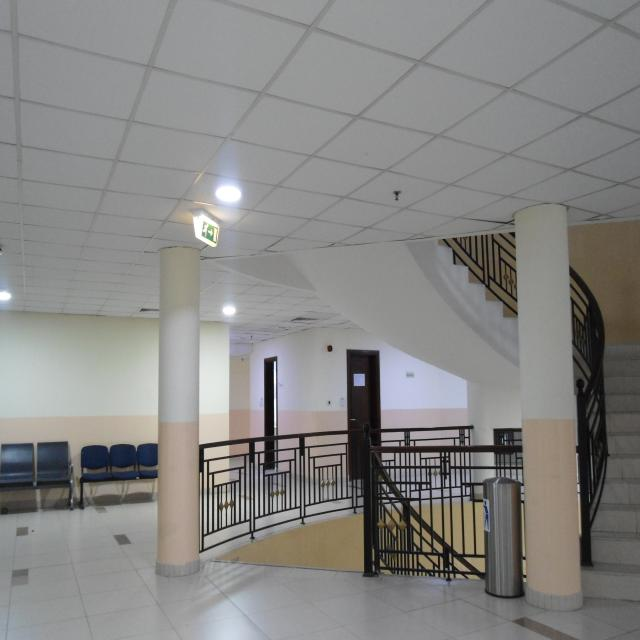bench: (0, 412, 75, 521), (74, 425, 163, 507)
door: (343, 344, 385, 481), (256, 346, 281, 478)
dustbin: (477, 464, 528, 606)
pillar: (515, 204, 583, 609), (156, 247, 200, 576)
railing: (202, 425, 519, 551), (356, 433, 480, 582), (573, 282, 618, 565), (442, 210, 525, 312)
stairs: (573, 325, 640, 608)
wall: (0, 312, 236, 504), (323, 340, 484, 474), (240, 338, 324, 483)
